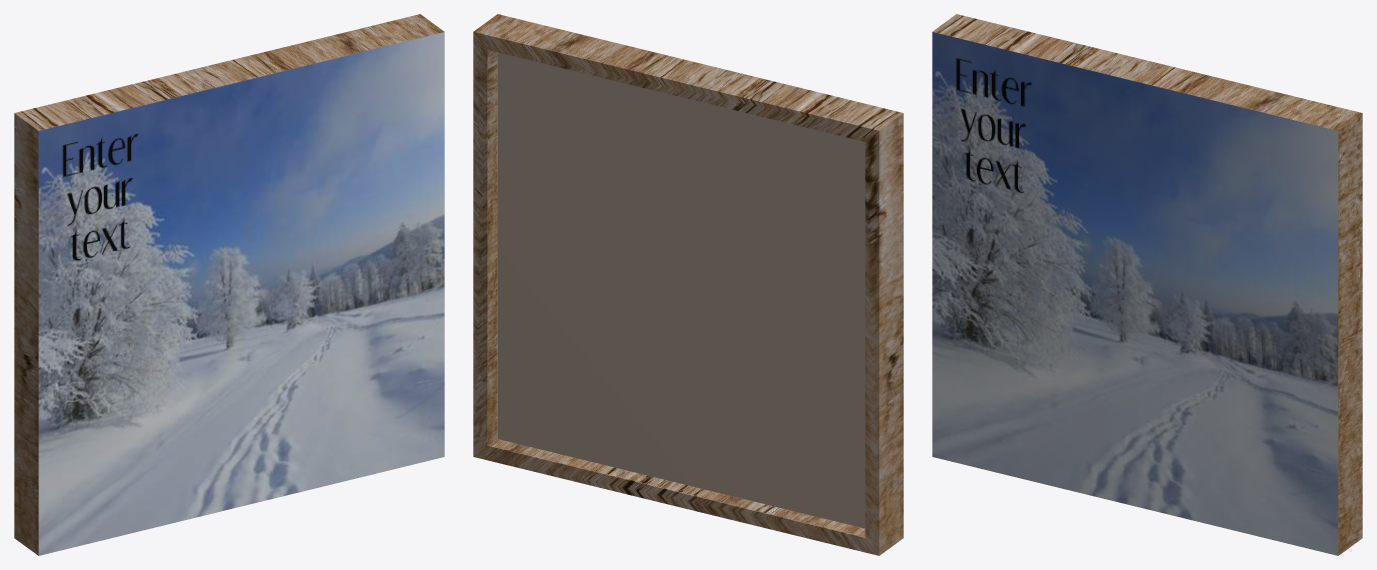
The model's file is 6x6_printing_area (1).glb.
The picture shows the model from 3 angles, left to right: view 1: azimuth 30°, elevation 25°; view 2: azimuth 150°, elevation 25°; view 3: azimuth 330°, elevation 25°; orthographic projection.
Visible parts, largest first — view 1: printing_Area; view 2: printing_Area; view 3: printing_Area.
Part boxes in pixels (left/top/right/bottom): printing_Area: left=14, top=14, right=444, bottom=555; printing_Area: left=473, top=14, right=903, bottom=555; printing_Area: left=932, top=14, right=1362, bottom=555.
Bounding box in the file's own units: 1.55 × 1.55 × 0.1607.
Materials: 1 (1 with a texture image).
